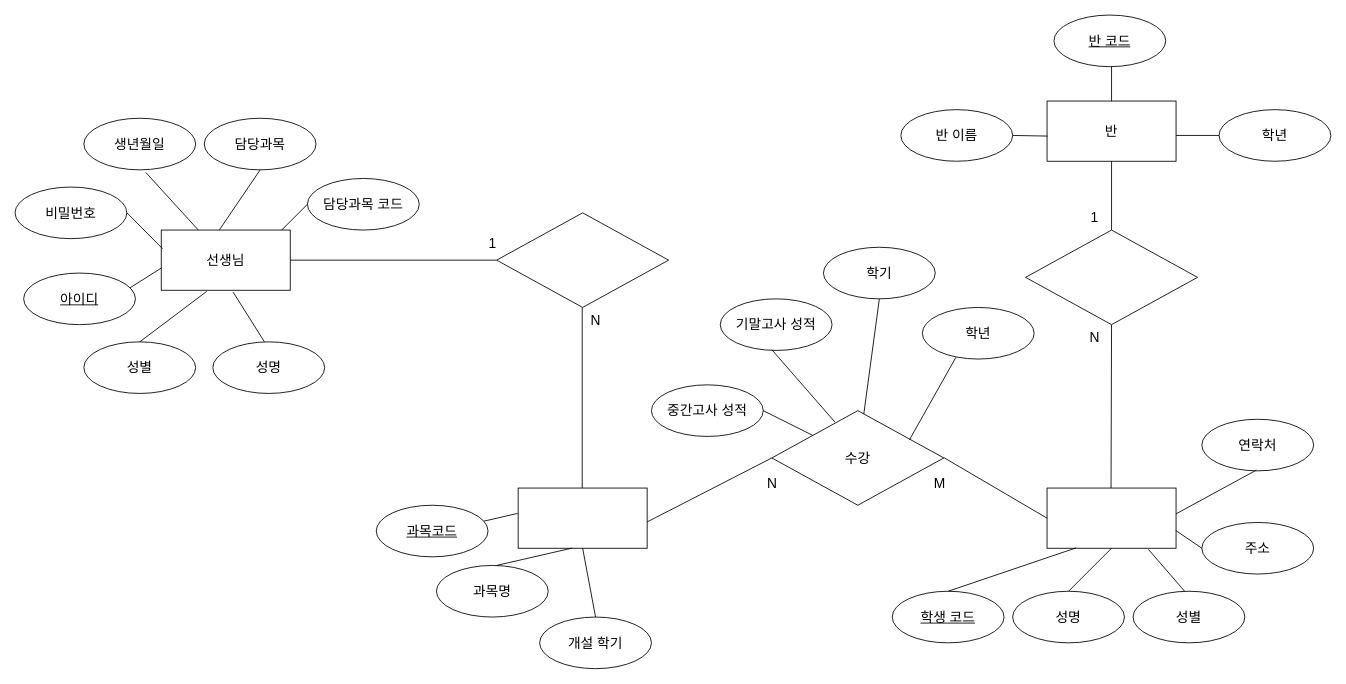
The diagram is 1346 pixels wide and 684 high, and some of its shapes have lost their labels. Each missing label, with the centre of its shape:
"과목" goes at pixel 582 517.
"소속" goes at pixel 1111 277.
"수업" goes at pixel 582 259.
"학생" goes at pixel 1111 517.
